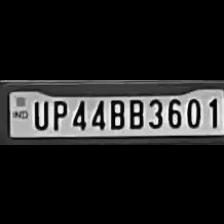0: (183, 94, 201, 125)
1: (205, 95, 221, 127)
3: (146, 94, 164, 128)
4: (69, 96, 87, 128), (88, 96, 106, 128)
6: (165, 95, 183, 127)
B: (106, 94, 124, 128), (126, 94, 144, 128)
P: (49, 96, 67, 128)
U: (30, 96, 48, 128)
